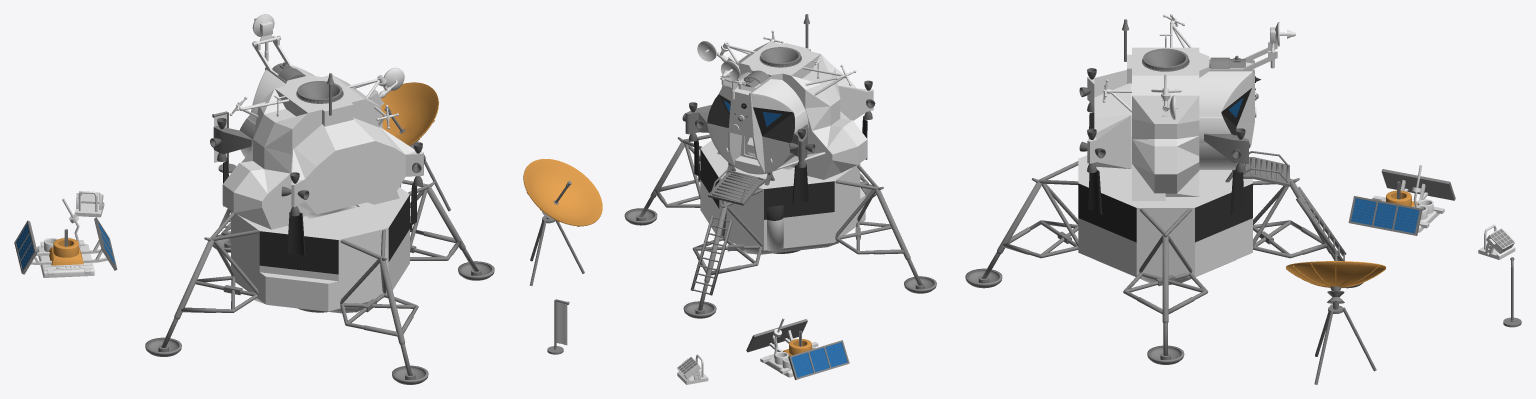
Rendered from Airfix lunar module upload.fbx.
The picture shows the model from 3 angles, left to right: view 1: azimuth 30°, elevation 25°; view 2: azimuth 150°, elevation 25°; view 3: azimuth 270°, elevation 25°; orthographic projection. The views are drawn at different scales.
Visible parts, largest first — view 1: descent body, PSE base, s-band dish.002, LRRR; view 2: descent body, s-band dish.002, PSE base, Solar wind exp, LRRR; view 3: descent body, PSE base, s-band dish.002, LRRR.
Boxes of the visible parts, box(x1,y1,x2,y2) form: descent body: box(145, 14, 494, 384); PSE base: box(14, 198, 117, 277); s-band dish.002: box(380, 82, 450, 211); LRRR: box(74, 191, 104, 217); descent body: box(624, 14, 936, 318); s-band dish.002: box(523, 159, 602, 285); PSE base: box(746, 317, 849, 379); Solar wind exp: box(547, 299, 569, 354); LRRR: box(677, 354, 708, 384); descent body: box(965, 14, 1362, 364); PSE base: box(1348, 165, 1455, 235); s-band dish.002: box(1286, 250, 1385, 384); LRRR: box(1478, 224, 1515, 259).
Size of the model in its own units: 149 by 94.31 by 182.
